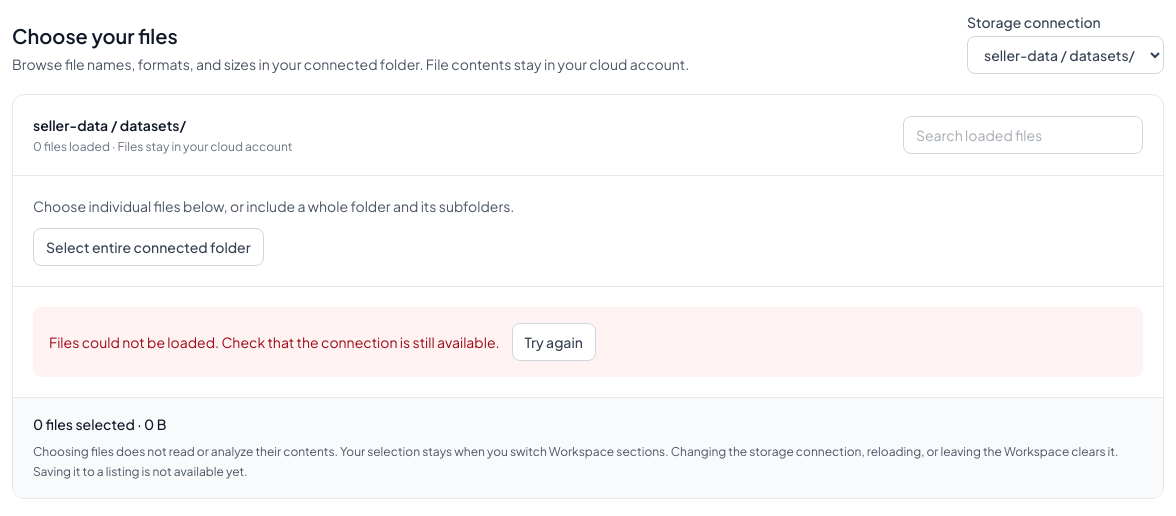
Test: Seller data browser › recovers from a load failure without exposing raw server errors
Expected: the 1st message is shown, [33,307,1143,377]
Click the button "Try again" at (554, 342), box [512,323,596,361]
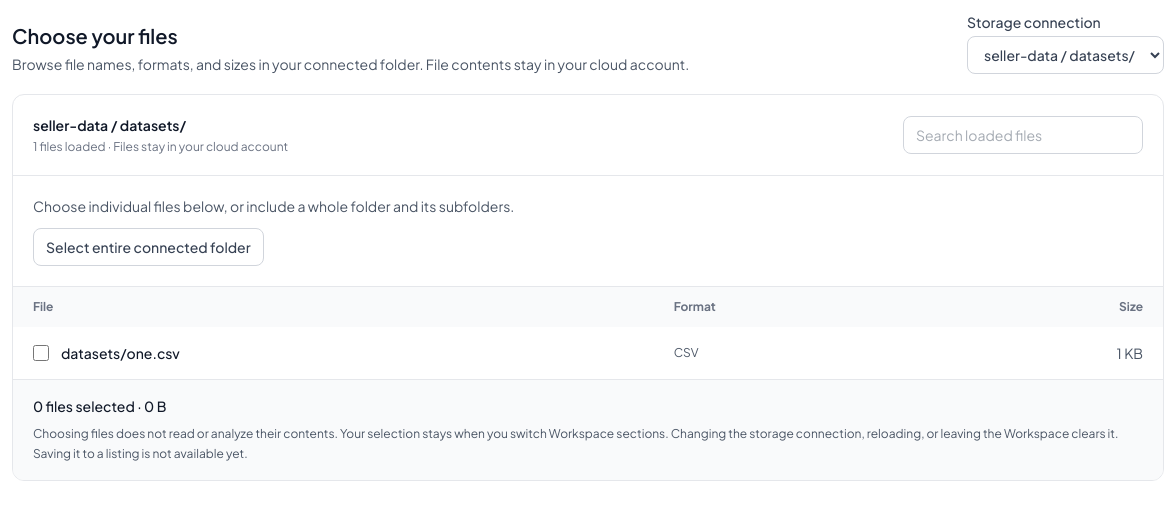
Result: the text "datasets/one.csv" is shown at [61,343,180,363]
